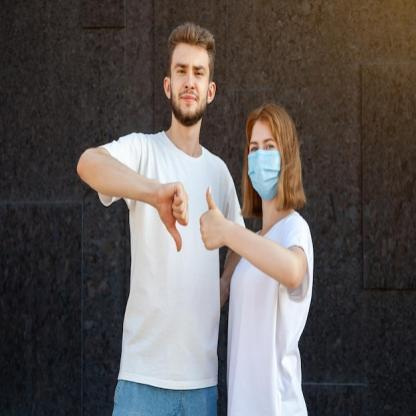thumb_down: (154, 178, 191, 254)
thumb_up: (198, 184, 228, 254)
